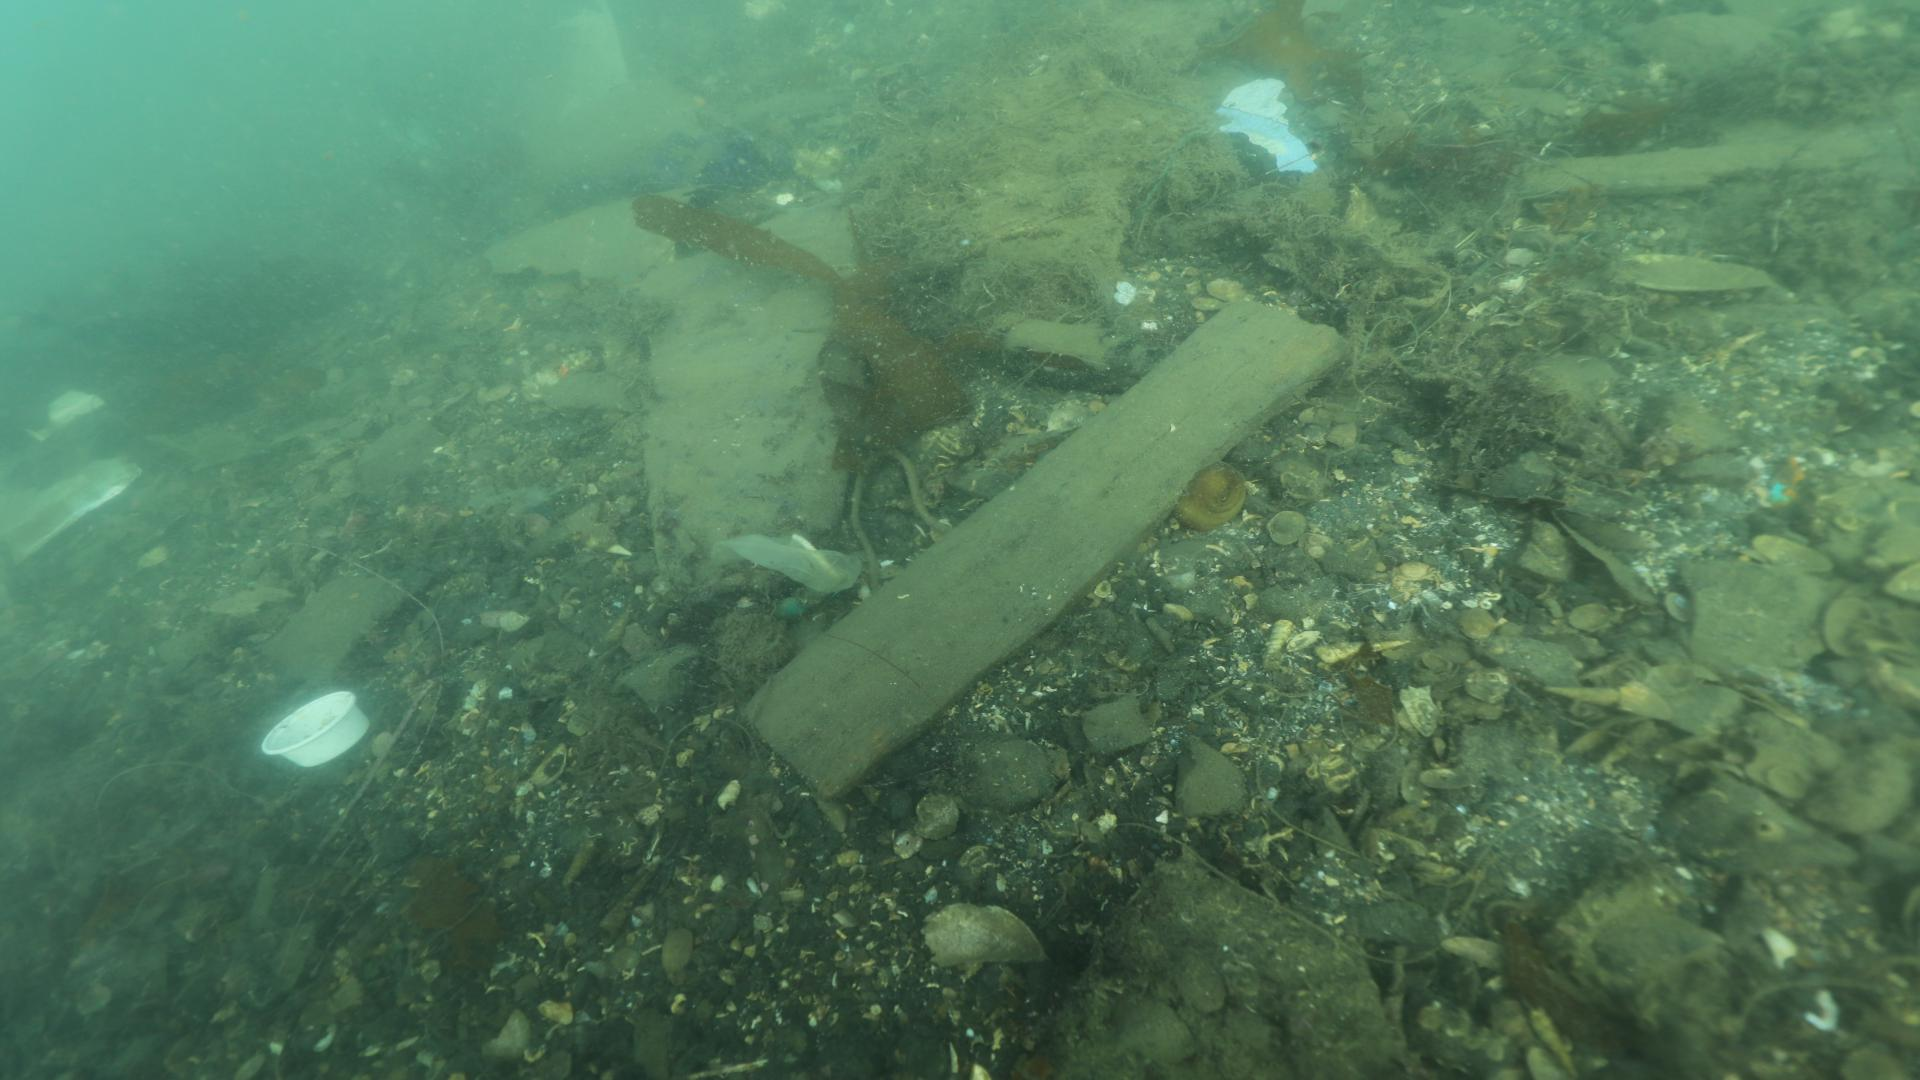wood: (727, 293, 1353, 802)
